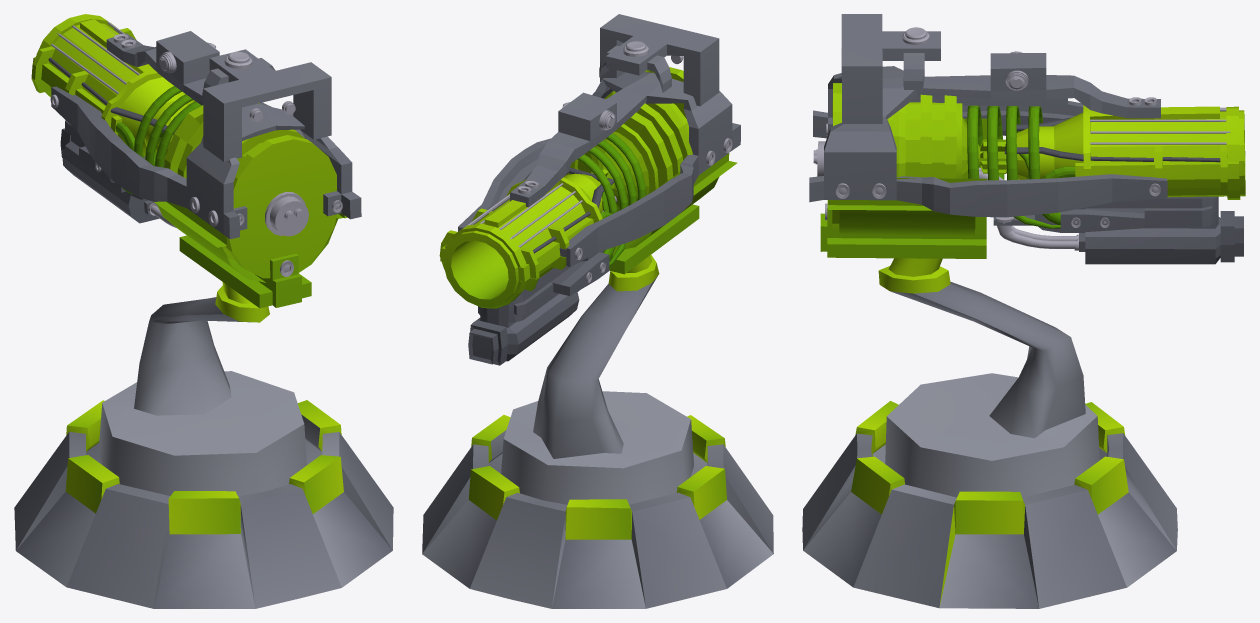
Rendered from Sci_Fi_Gun_02.fbx.
3 renders of one model, left to right at view 1: azimuth 30°, elevation 25°; view 2: azimuth 150°, elevation 25°; view 3: azimuth 270°, elevation 25°, orthographic. The views are drawn at different scales.
Parts seen in each view (by area): view 1: __PrenotatoPerDuplicare_009, scifihypersonic_box2, scifihypersonic_cylinder114; view 2: __PrenotatoPerDuplicare_009, scifihypersonic_box2; view 3: __PrenotatoPerDuplicare_009, scifihypersonic_box2, scifihypersonic_line11.
Boxes of the visible parts, x1,y1,x2,y2 form: __PrenotatoPerDuplicare_009: (14,282,393,608); scifihypersonic_box2: (31,14,361,308); scifihypersonic_cylinder114: (265,192,308,236); __PrenotatoPerDuplicare_009: (422,255,773,608); scifihypersonic_box2: (439,14,740,365); __PrenotatoPerDuplicare_009: (802,258,1177,608); scifihypersonic_box2: (809,14,1245,264); scifihypersonic_line11: (995,217,1078,250).
Bounding box in the file's own units: 147 × 215 × 174.
1 material, 1 textured.
